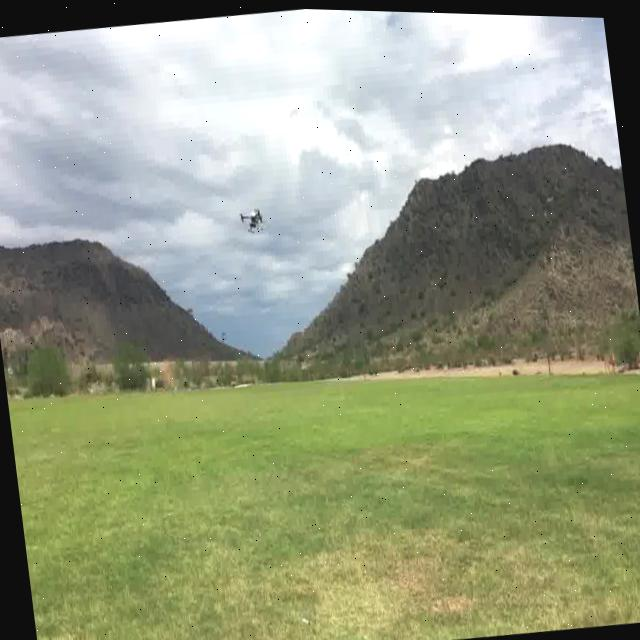drone: (236, 198, 266, 232)
